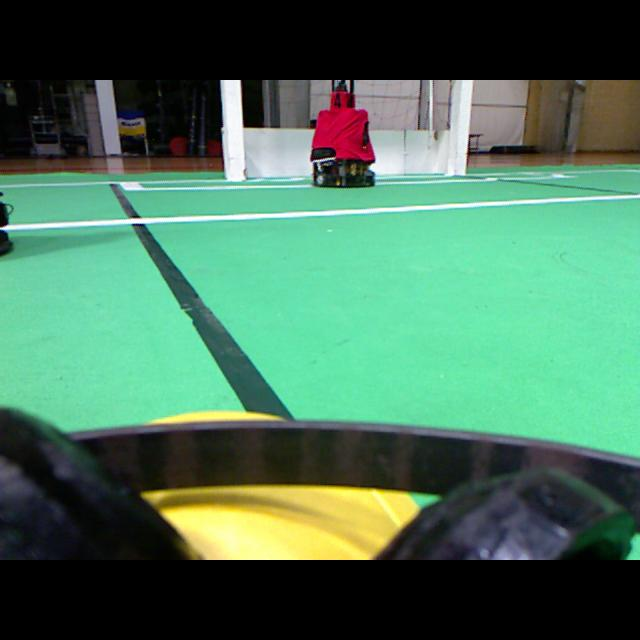goal: (220, 80, 245, 181), (447, 80, 472, 174)
